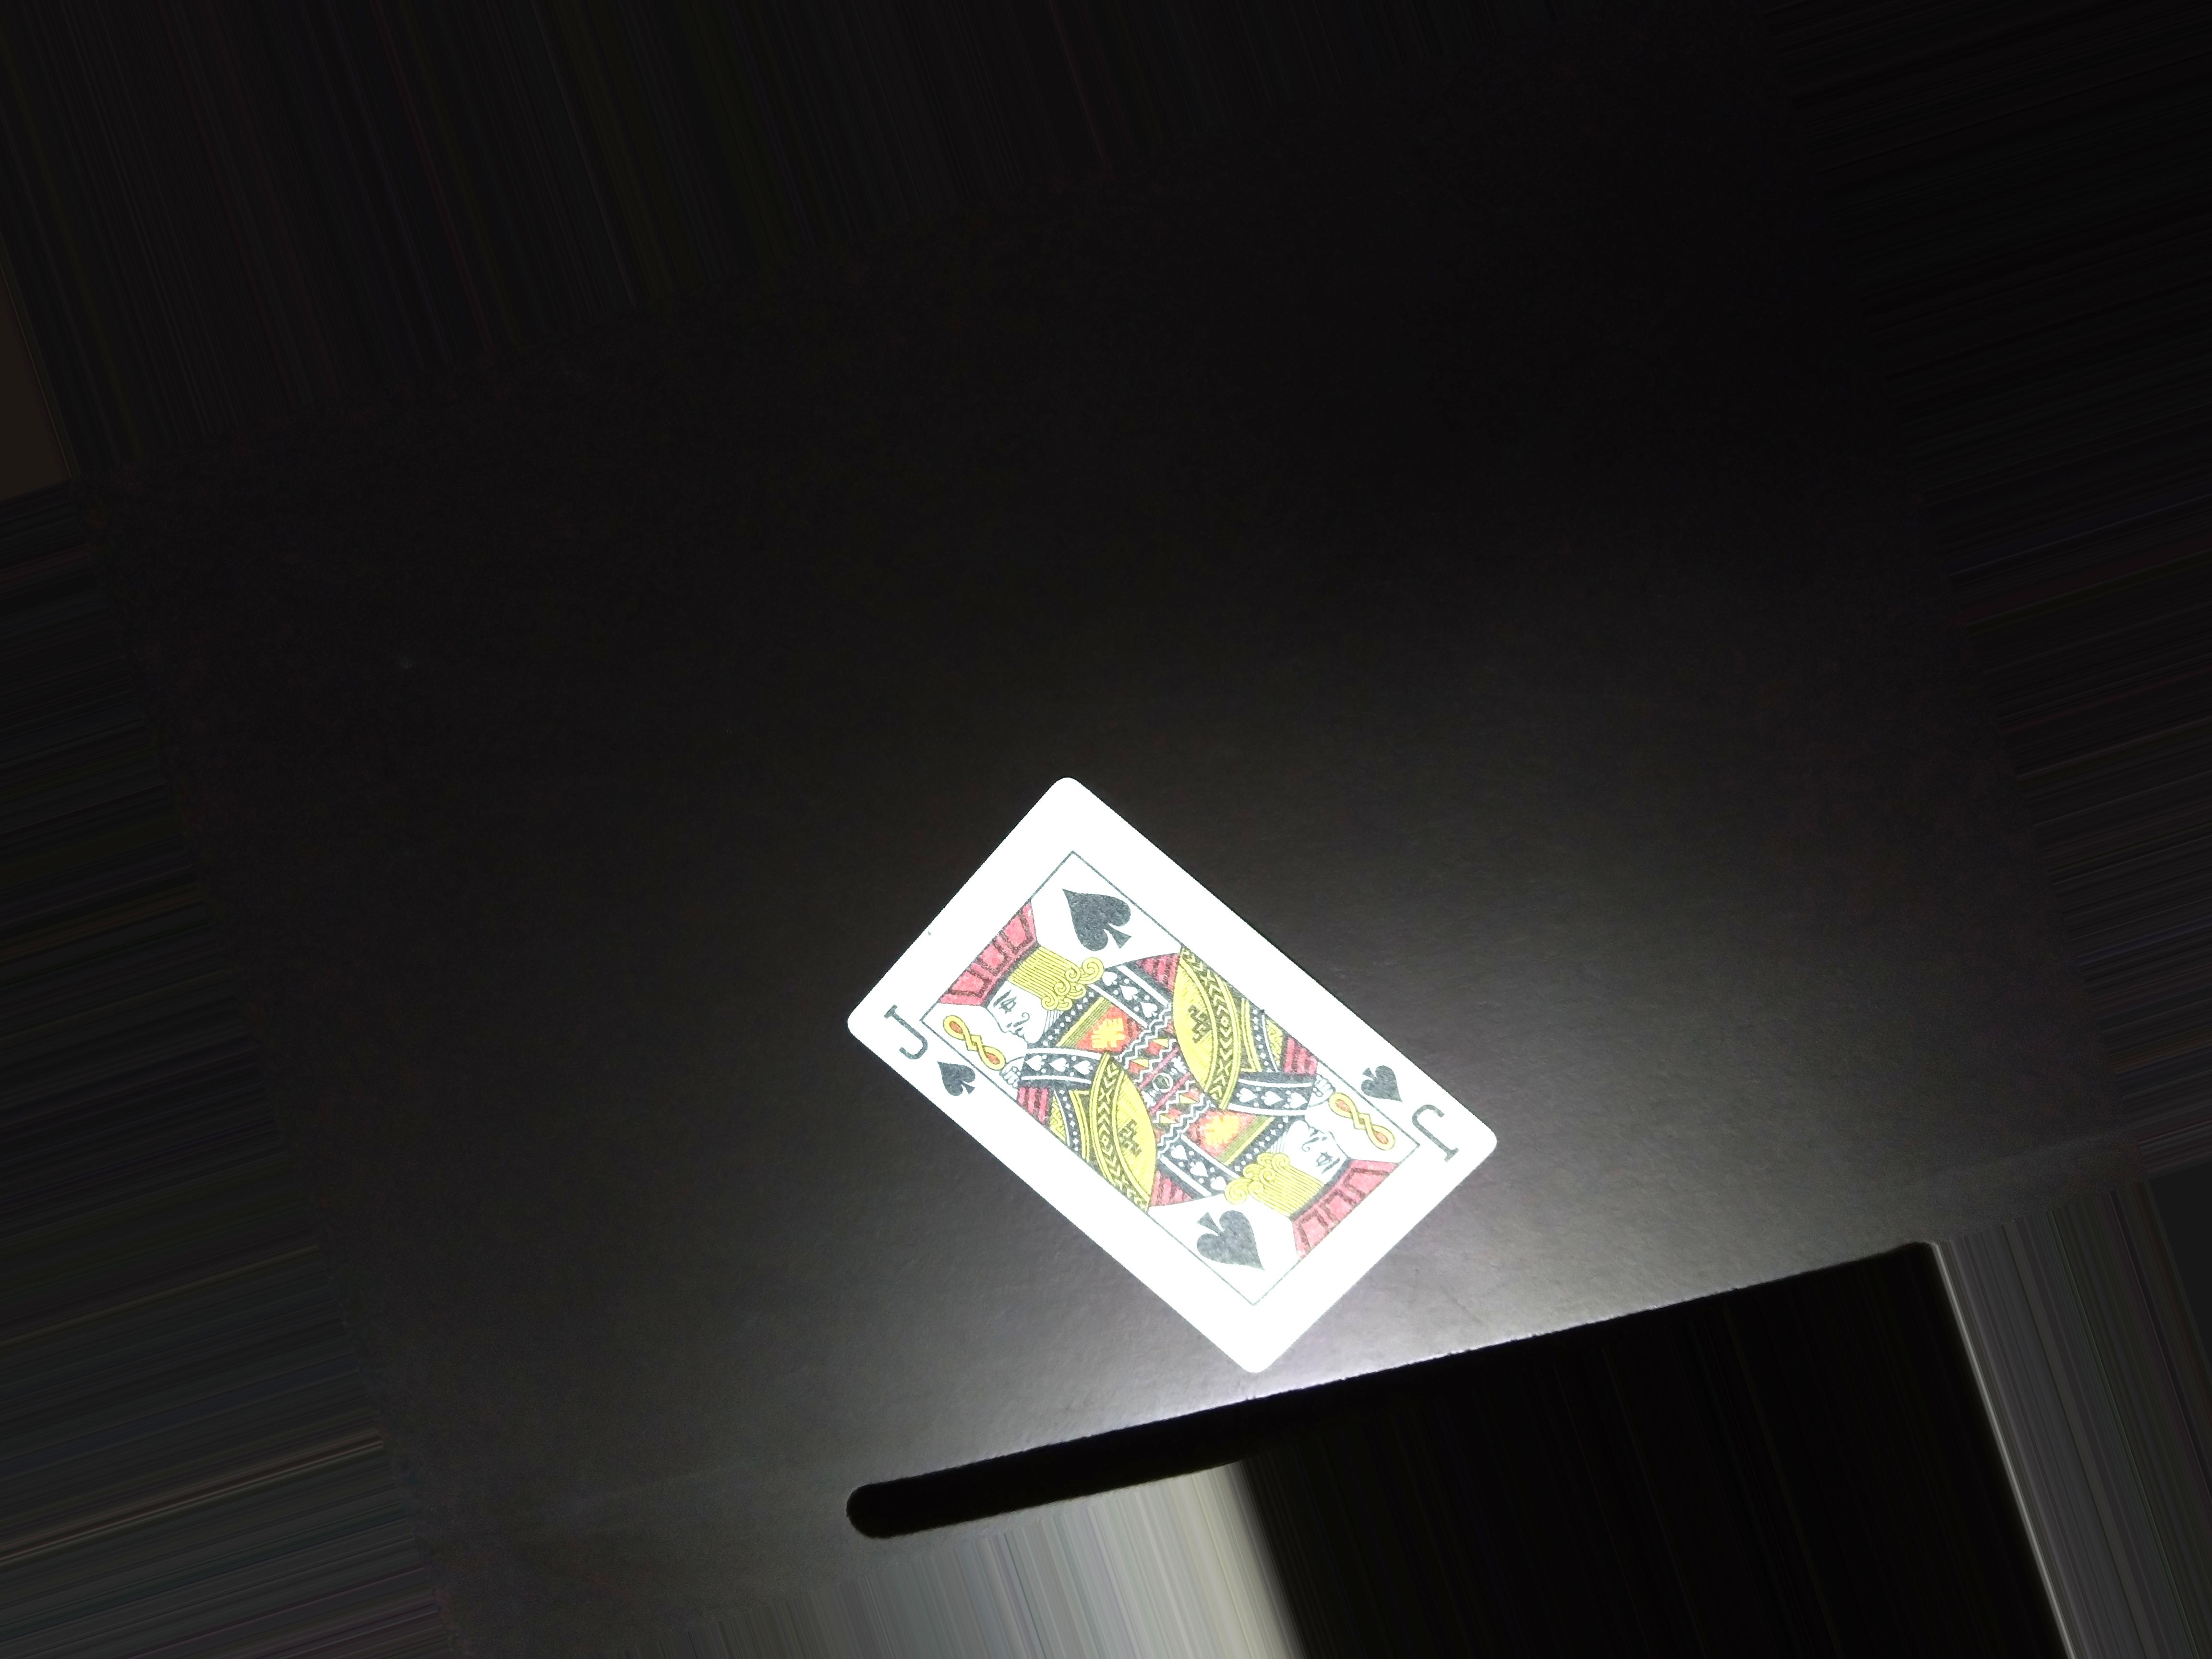JS: (1366, 1053, 1465, 1171)
